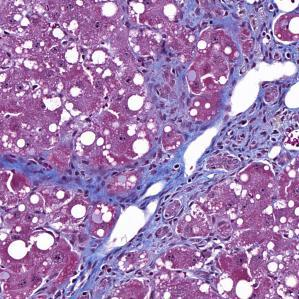fibrosis: (56, 234, 161, 296), (115, 160, 212, 206), (169, 0, 266, 46), (230, 112, 299, 174)
